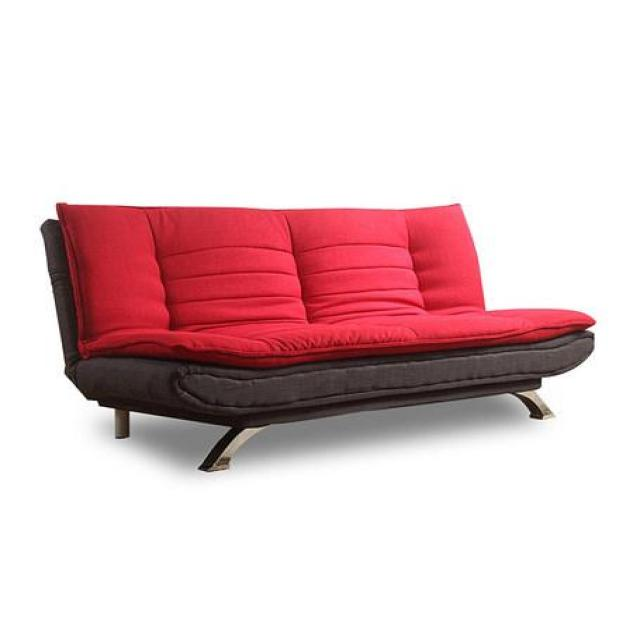sofa: (39, 198, 598, 482)
